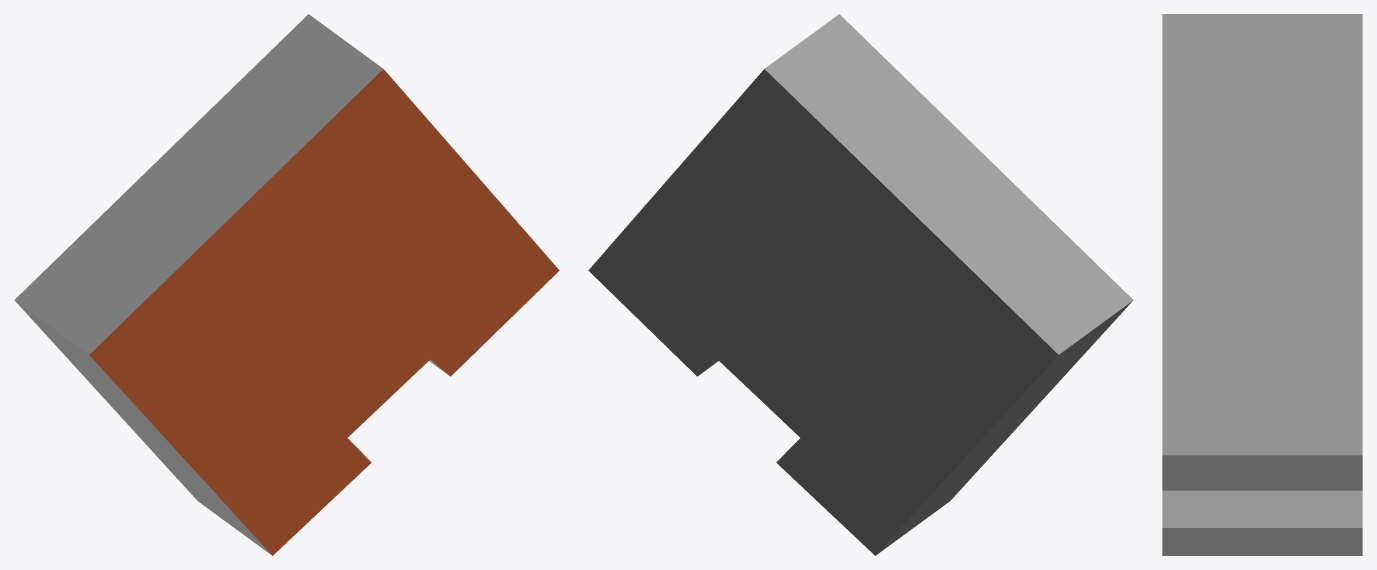
The model's file is construction_2835_assumed_A_Casa_h6m.obj.
3 views of the same model, side by side, from view 1: azimuth 30°, elevation 25°; view 2: azimuth 150°, elevation 25°; view 3: azimuth 270°, elevation 25° (orthographic). The views are drawn at different scales.
Parts seen in each view (by area): view 1: construction_2835_assumed_A_Casa; view 2: construction_2835_assumed_A_Casa; view 3: construction_2835_assumed_A_Casa.
Part boxes in pixels (x1=…): construction_2835_assumed_A_Casa: x1=14, y1=14, x2=559, y2=555; construction_2835_assumed_A_Casa: x1=588, y1=14, x2=1133, y2=555; construction_2835_assumed_A_Casa: x1=1162, y1=14, x2=1362, y2=555.
Size of the model in its own units: 21.74 by 20.32 by 6.
